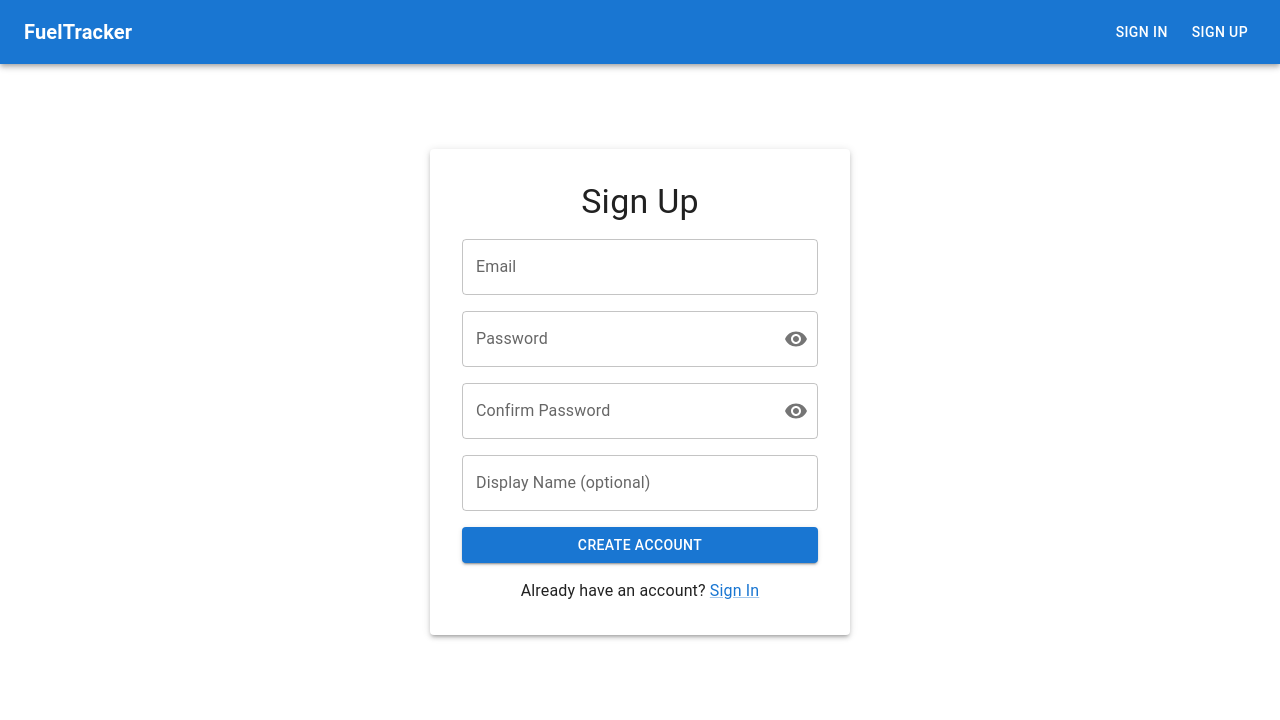
Test case: Sign Up 409 mapping › shows field error on email when backend returns 409
In the field labelled "Email": (640, 267) top-left (462, 239), bottom-right (818, 295), type "taken@example.com"
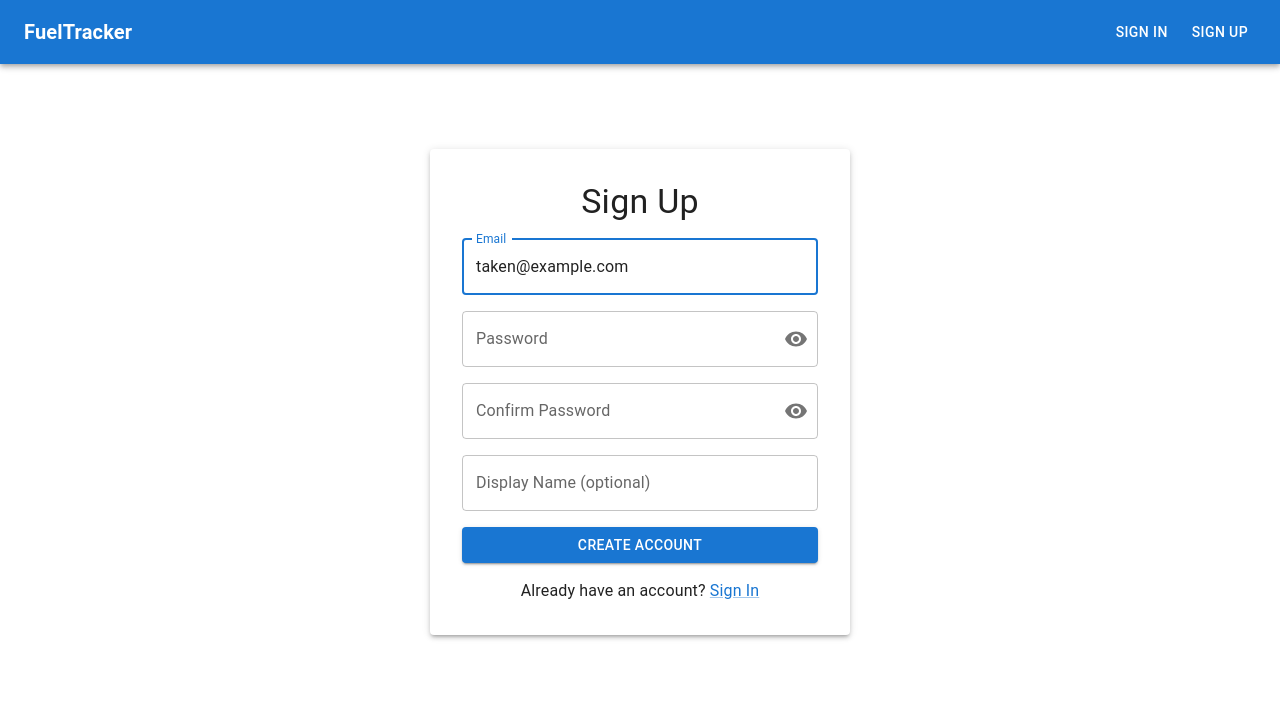
In the password field labelled "Password": (615, 339) top-left (462, 311), bottom-right (768, 367), type "Passw0rd1"
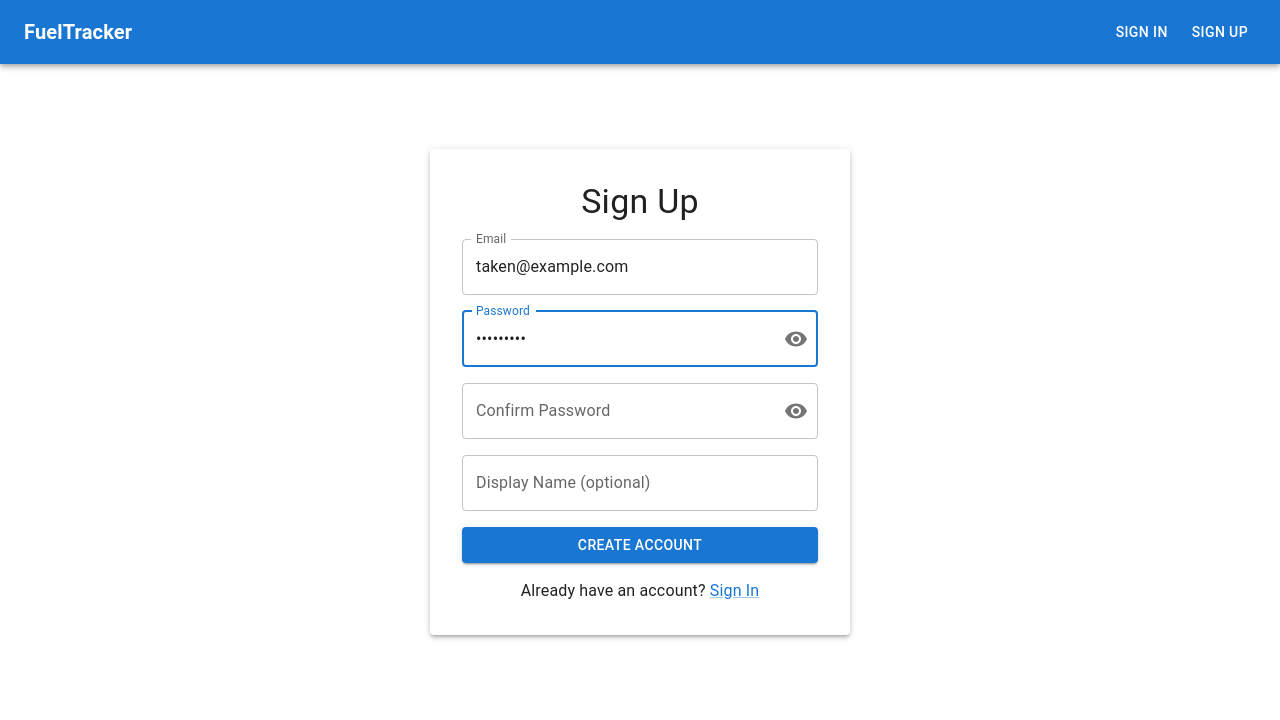
In the password field labelled "Confirm Password": (615, 411) top-left (462, 383), bottom-right (768, 439), type "Passw0rd1"
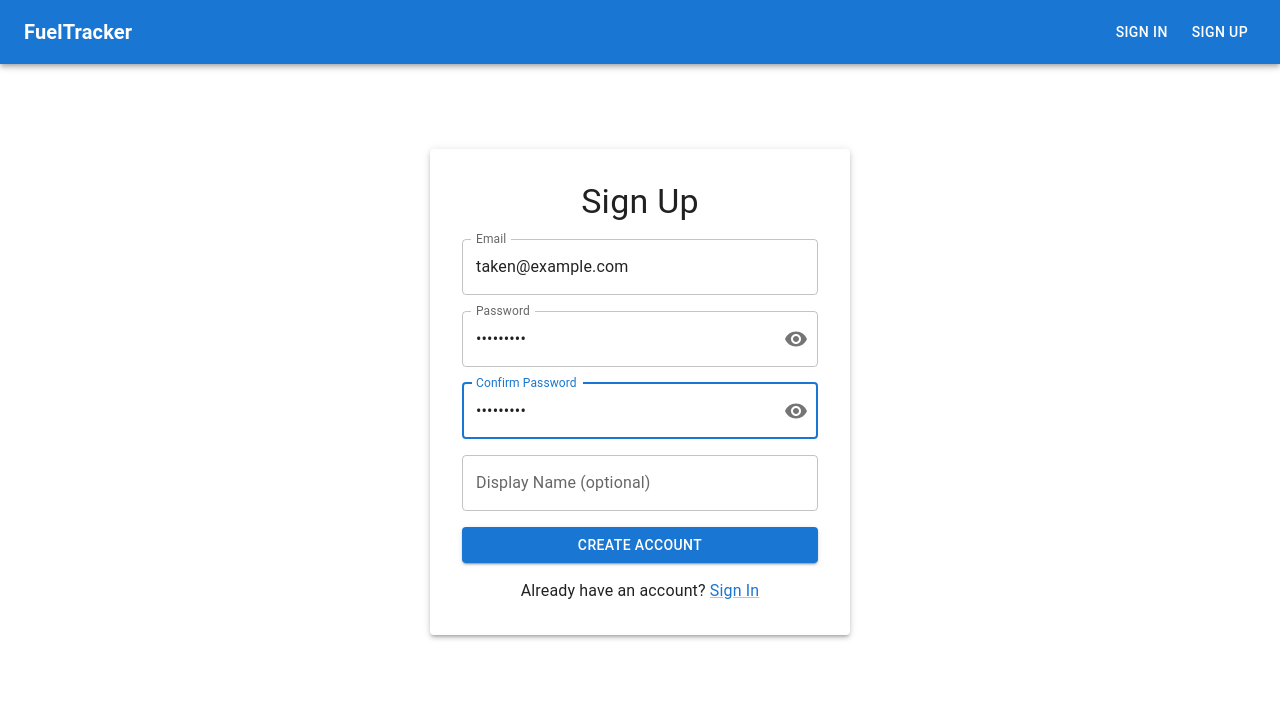
Click the button "Create account": (640, 545) top-left (462, 527), bottom-right (818, 563)
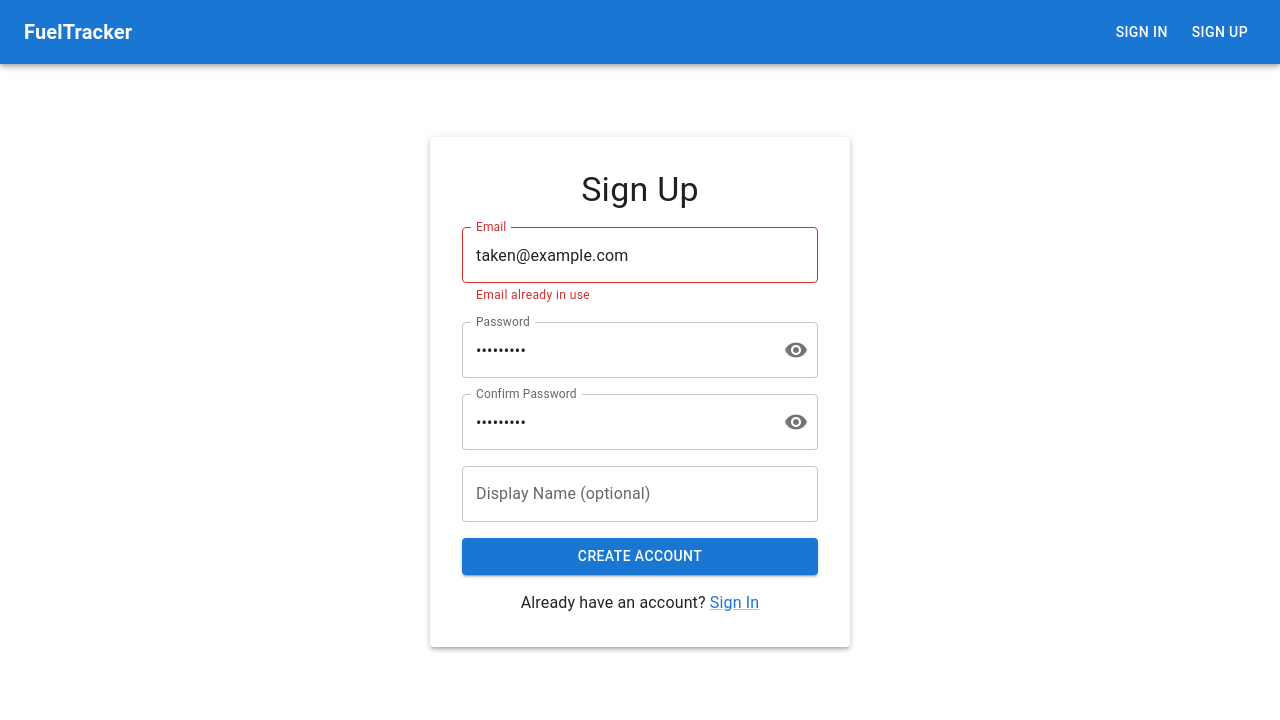
Expected: the text "Email already in use" is shown, top-left (476, 288), bottom-right (590, 302)
